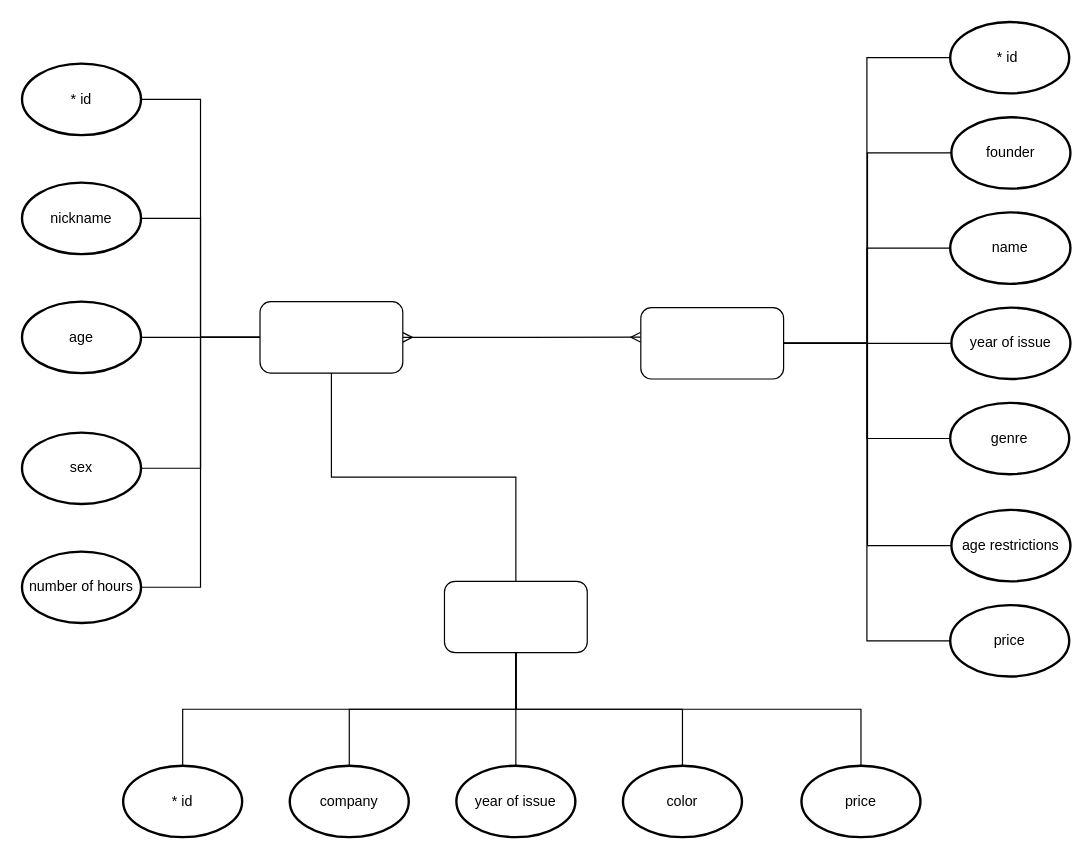
Image size: 1091x858. Some labels were removed from this diagram. The shapes that lost their labels are listed below. From the top down, each one's centre as x and y in pixels, then its label:
[331,336]: user
[712,342]: World
[515,616]: device
